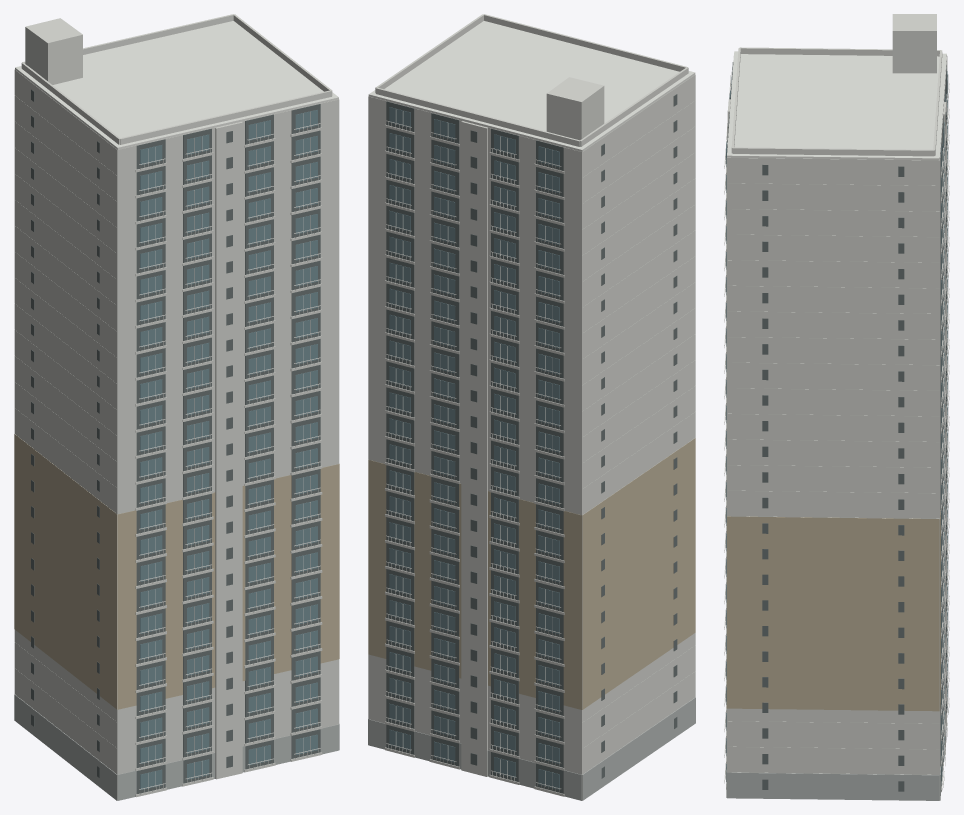
File: bespoke-sk-bukhansan-city-101.glb
3 views of the same model, side by side, from view 1: azimuth 30°, elevation 25°; view 2: azimuth 150°, elevation 25°; view 3: azimuth 270°, elevation 25° (orthographic).
Parts seen in each view (by area): view 1: SK101_editable_SK101_off_white_walls, SK101_editable_SK101_narrow_charcoal_balcony_slots, SK101_editable_SK101_turquoise_balcony_glazing, SK101_editable_SK101_muted_beige_lower_walls, SK101_editable_SK101_broad_white_facade_frames, SK101_editable_SK101_light_grey_solid_wall; view 2: SK101_editable_SK101_off_white_walls, SK101_editable_SK101_narrow_charcoal_balcony_slots, SK101_editable_SK101_muted_beige_lower_walls, SK101_editable_SK101_turquoise_balcony_glazing, SK101_editable_SK101_broad_white_facade_frames, SK101_editable_SK101_light_grey_solid_wall; view 3: SK101_editable_SK101_off_white_walls, SK101_editable_SK101_muted_beige_lower_walls, SK101_editable_SK101_broad_white_facade_frames, SK101_editable_SK101_narrow_charcoal_balcony_slots, SK101_editable_SK101_light_grey_solid_wall, SK101_editable_SK101_turquoise_balcony_glazing.
Boxes of the visible parts, x1,y1,x2,y2 form: SK101_editable_SK101_off_white_walls: (14, 14, 339, 800); SK101_editable_SK101_narrow_charcoal_balcony_slots: (31, 89, 320, 793); SK101_editable_SK101_turquoise_balcony_glazing: (140, 110, 317, 790); SK101_editable_SK101_muted_beige_lower_walls: (14, 434, 339, 709); SK101_editable_SK101_broad_white_facade_frames: (15, 21, 338, 794); SK101_editable_SK101_light_grey_solid_wall: (14, 694, 339, 800); SK101_editable_SK101_off_white_walls: (368, 14, 695, 800); SK101_editable_SK101_narrow_charcoal_balcony_slots: (386, 94, 677, 793); SK101_editable_SK101_muted_beige_lower_walls: (368, 438, 695, 709); SK101_editable_SK101_turquoise_balcony_glazing: (389, 107, 559, 789); SK101_editable_SK101_broad_white_facade_frames: (368, 21, 695, 793); SK101_editable_SK101_light_grey_solid_wall: (368, 697, 695, 800); SK101_editable_SK101_off_white_walls: (726, 14, 947, 800); SK101_editable_SK101_muted_beige_lower_walls: (726, 436, 947, 711); SK101_editable_SK101_broad_white_facade_frames: (724, 51, 949, 787); SK101_editable_SK101_narrow_charcoal_balcony_slots: (727, 62, 946, 791); SK101_editable_SK101_light_grey_solid_wall: (726, 687, 947, 800); SK101_editable_SK101_turquoise_balcony_glazing: (726, 71, 947, 784).
Bounding box in the file's own units: 22.94 × 67.9 × 20.24.
